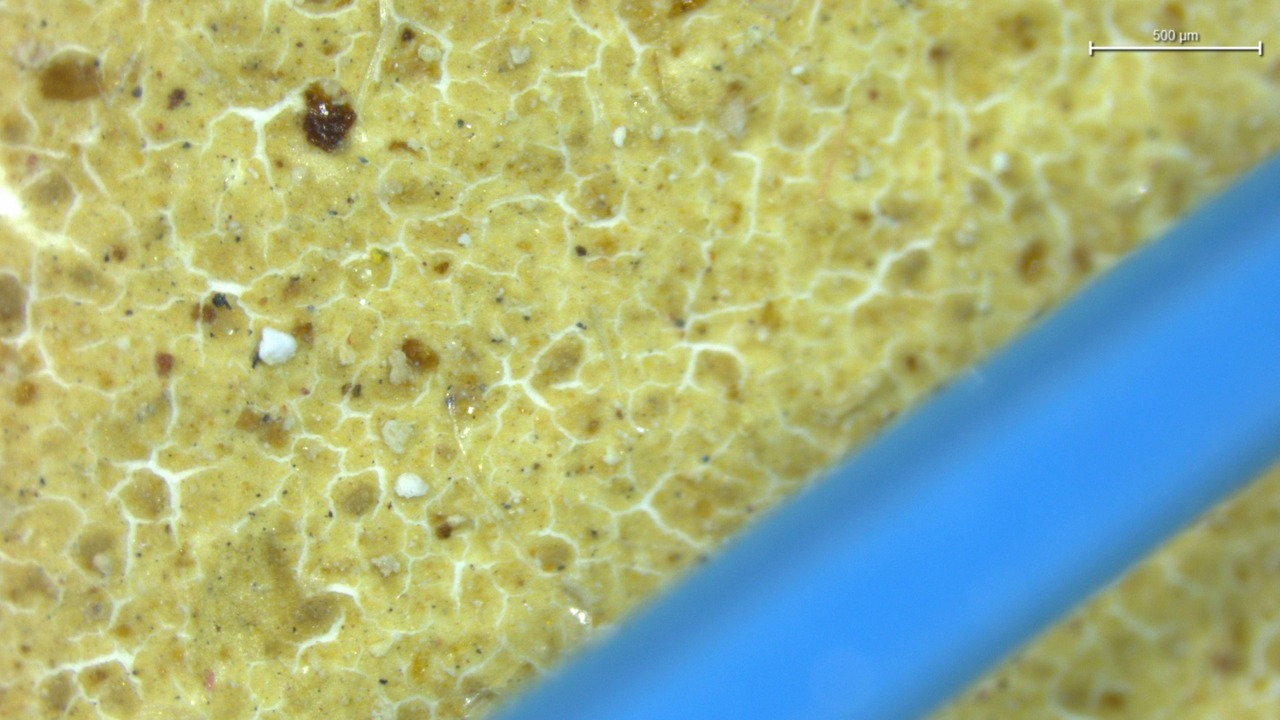microplastic_fragment: (303, 91, 356, 152), (257, 327, 297, 365), (394, 473, 429, 499)
